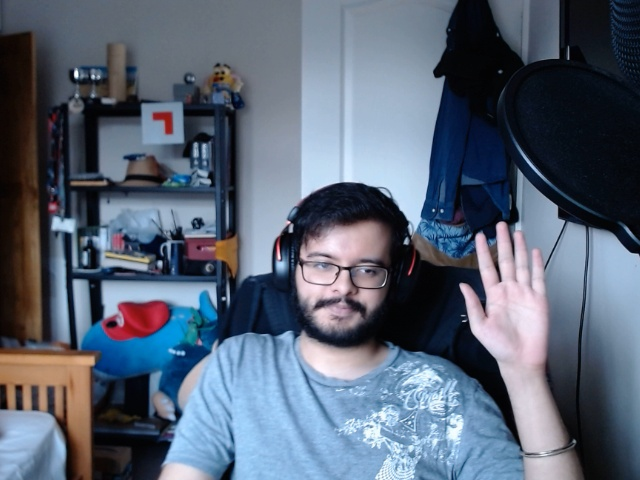Hello: (448, 219, 563, 375)
